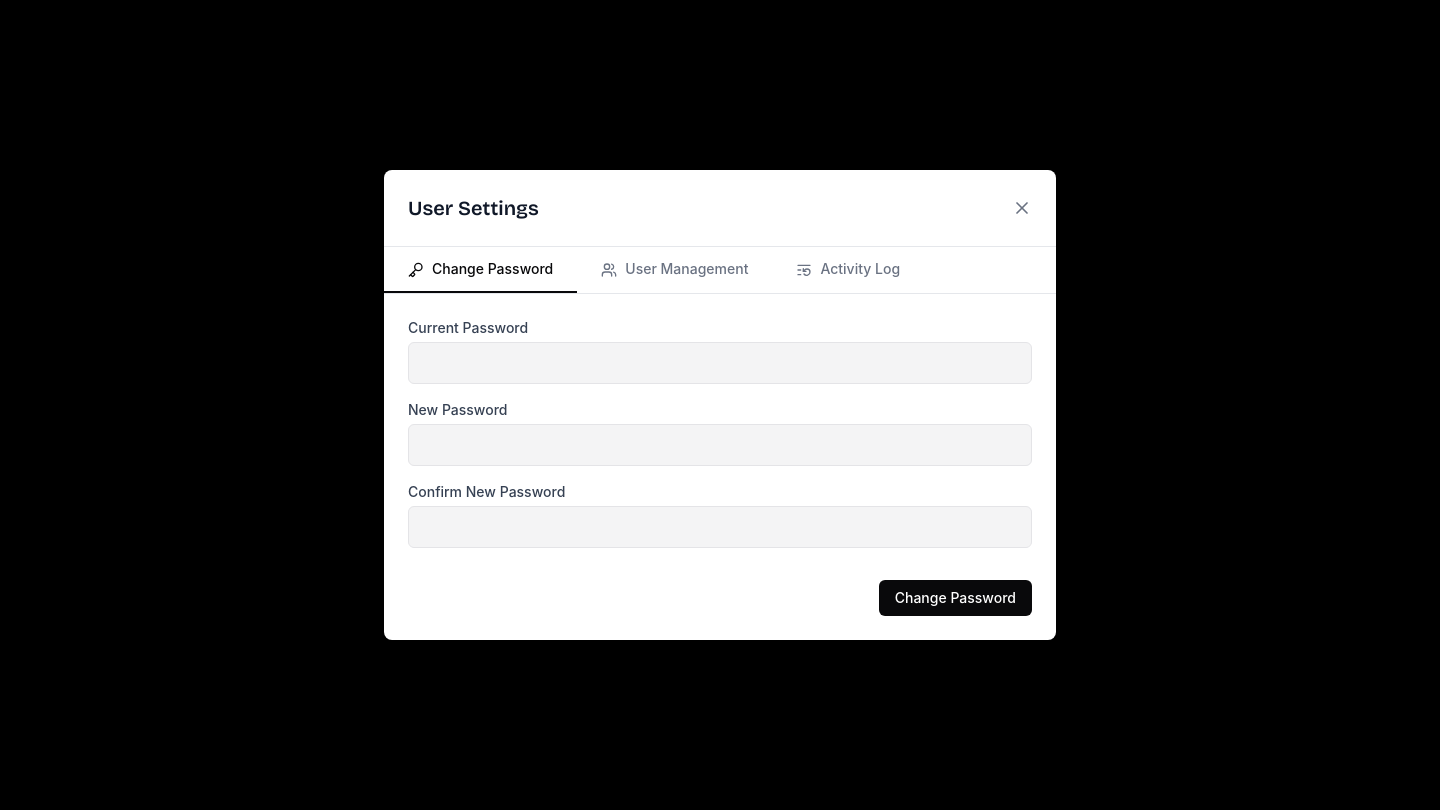
Test case: UserSettings › loads the activity log when an admin opens the Activity tab
Click the button "Activity Log".
click(848, 270)  # box [772,247,924,293]
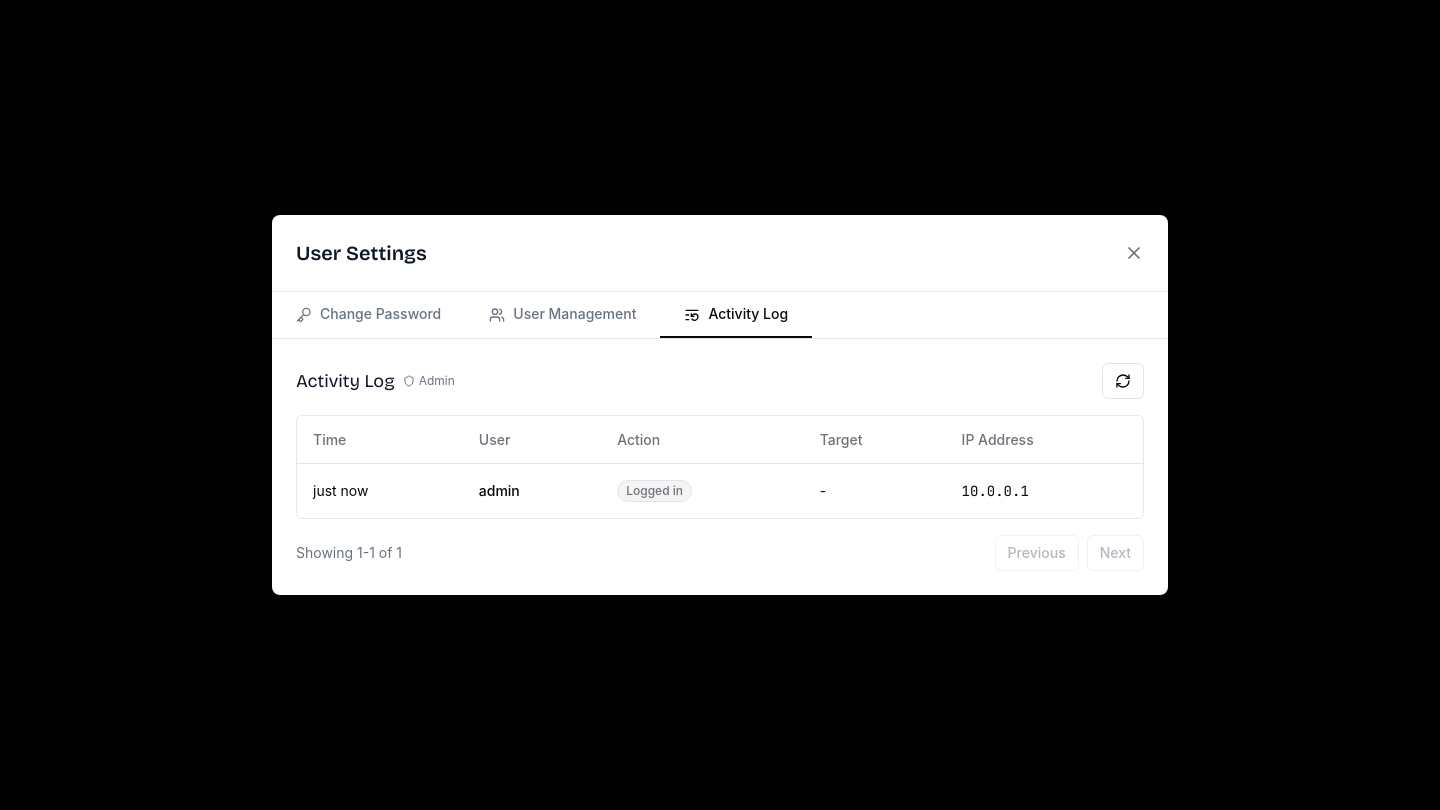
Now the text "Logged in" is shown, box [617,480,692,502]
Now the text "10.0.0.1" is shown, box [946,464,1143,518]
